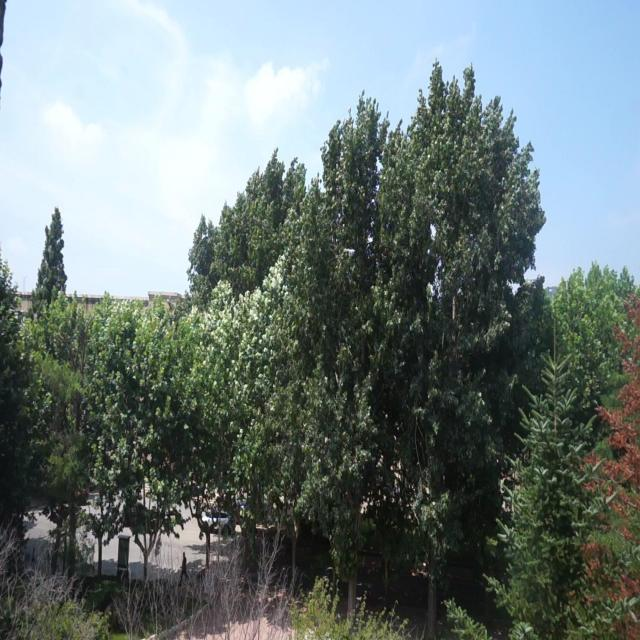UAV: (344, 248, 356, 256)
